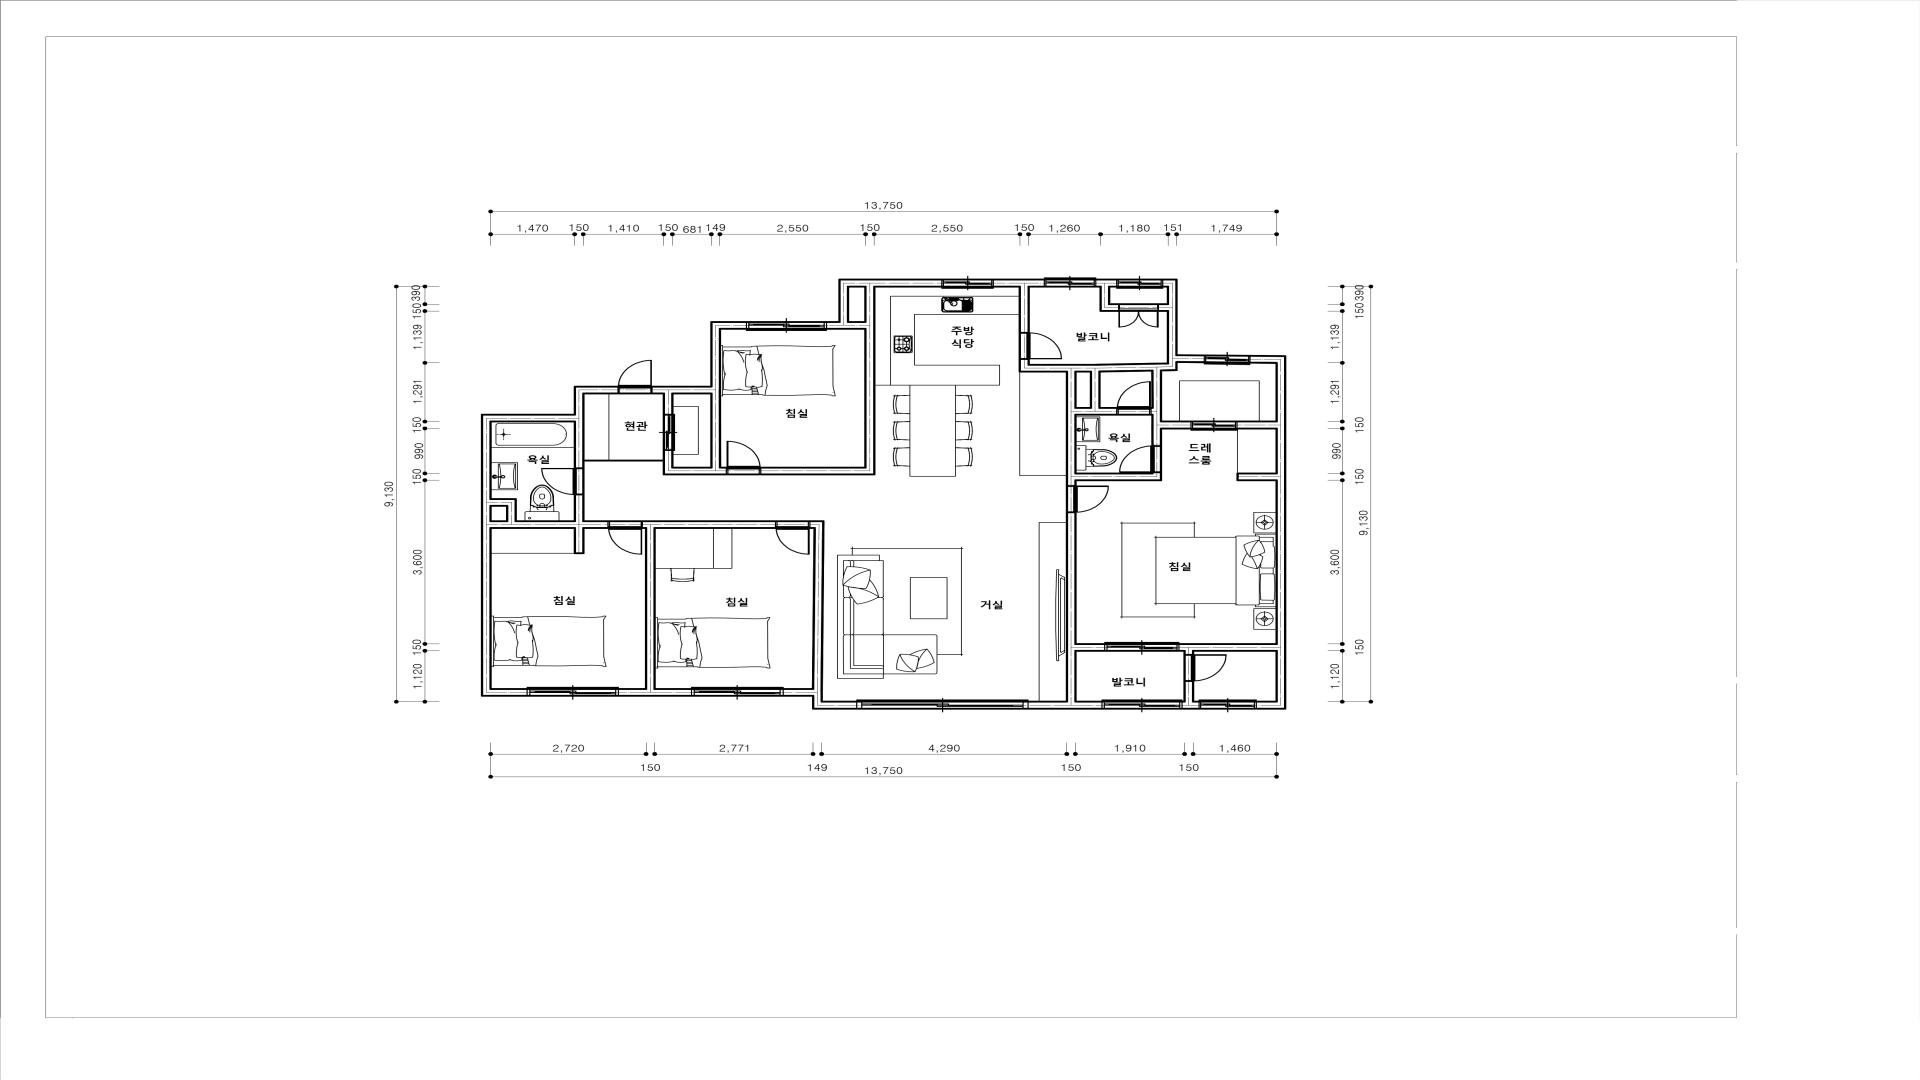door: (1018, 332, 1063, 360), (727, 440, 761, 476), (617, 360, 653, 394), (608, 520, 642, 555), (775, 521, 811, 555), (1183, 654, 1226, 682), (1065, 485, 1109, 513), (1117, 381, 1151, 415), (542, 468, 584, 496), (1118, 446, 1162, 472), (1118, 303, 1159, 327), (662, 414, 675, 451)
wall: (1275, 355, 1287, 700), (481, 422, 492, 696), (811, 520, 824, 688), (864, 287, 876, 467), (645, 529, 655, 688), (709, 330, 721, 467), (1030, 363, 1178, 373), (1065, 513, 1077, 644), (642, 520, 775, 529), (1065, 372, 1076, 485), (492, 520, 608, 529), (761, 467, 876, 476), (839, 278, 942, 287), (1167, 278, 1178, 355), (1076, 472, 1162, 481), (574, 394, 584, 468), (1151, 372, 1162, 446), (1180, 644, 1275, 651), (481, 414, 574, 422), (1029, 700, 1101, 709), (618, 688, 691, 696), (653, 385, 711, 394), (1018, 287, 1030, 332), (662, 467, 727, 475), (994, 278, 1043, 287), (839, 287, 849, 330), (1089, 372, 1101, 407), (574, 385, 617, 394), (783, 687, 823, 696), (1237, 421, 1275, 430), (1237, 472, 1275, 481), (1167, 355, 1204, 364), (1076, 407, 1117, 415), (492, 687, 526, 696), (1065, 644, 1105, 651), (823, 700, 856, 709), (709, 322, 746, 330), (1257, 700, 1287, 709), (1162, 421, 1191, 430), (574, 529, 584, 554), (574, 495, 584, 520), (1100, 287, 1110, 313), (662, 394, 674, 414), (1250, 355, 1275, 364), (1184, 682, 1195, 702), (492, 498, 517, 506), (1096, 278, 1117, 287), (662, 451, 674, 467), (1018, 360, 1030, 373), (1183, 700, 1199, 709), (506, 506, 517, 520), (812, 696, 823, 709), (849, 320, 864, 330), (827, 320, 839, 330), (1110, 303, 1118, 313), (1159, 303, 1167, 313), (1163, 278, 1167, 287), (1183, 651, 1195, 654), (811, 521, 814, 529)
window: (856, 699, 1029, 709), (1101, 699, 1183, 709), (526, 687, 618, 696), (691, 687, 783, 696), (746, 320, 827, 331), (1104, 642, 1180, 651), (1199, 699, 1257, 709), (1043, 277, 1097, 287), (942, 278, 994, 289), (1203, 355, 1250, 365), (1191, 421, 1237, 431), (1117, 278, 1163, 289)
